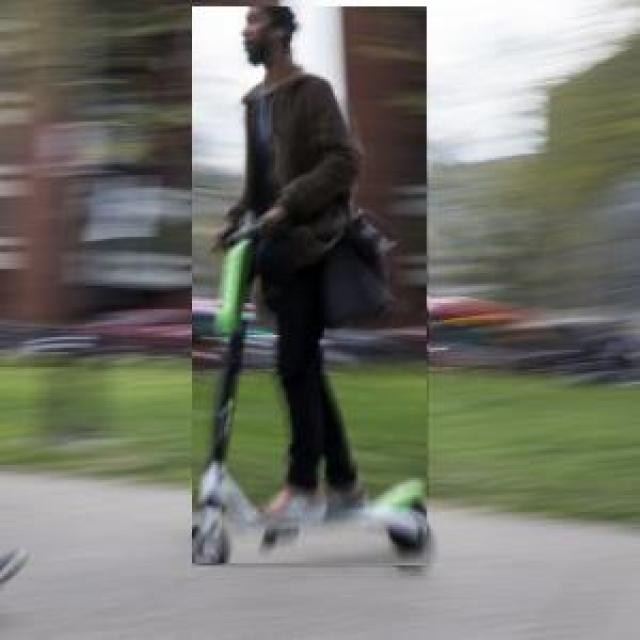pedestrian: (194, 8, 431, 570)
